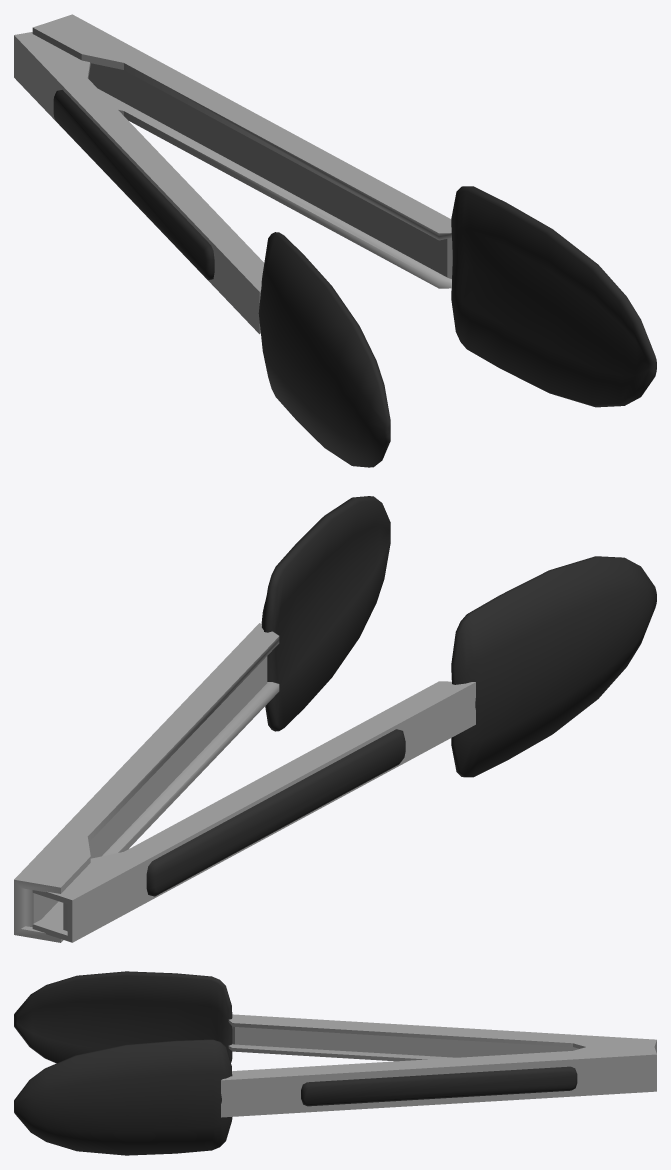
The model's file is PastaGrabber_01.fbx.
The picture shows the model from 3 angles, top to bottom: view 1: azimuth 30°, elevation 25°; view 2: azimuth 150°, elevation 25°; view 3: azimuth 270°, elevation 25°; orthographic projection. The views are drawn at different scales.
Visible parts, largest first — view 1: PastaGrabber_01_L, PastaGrabber_01; view 2: PastaGrabber_01, PastaGrabber_01_L; view 3: PastaGrabber_01_L, PastaGrabber_01.
Part boxes in pixels (x1,y1,x2,y2): PastaGrabber_01_L: (32,14,656,407); PastaGrabber_01: (14,32,390,467); PastaGrabber_01: (32,556,656,942); PastaGrabber_01_L: (14,496,390,942); PastaGrabber_01_L: (14,1039,656,1155); PastaGrabber_01: (14,971,656,1063).
Size of the model in its own units: 0.0998 by 0.0555 by 0.2891.
